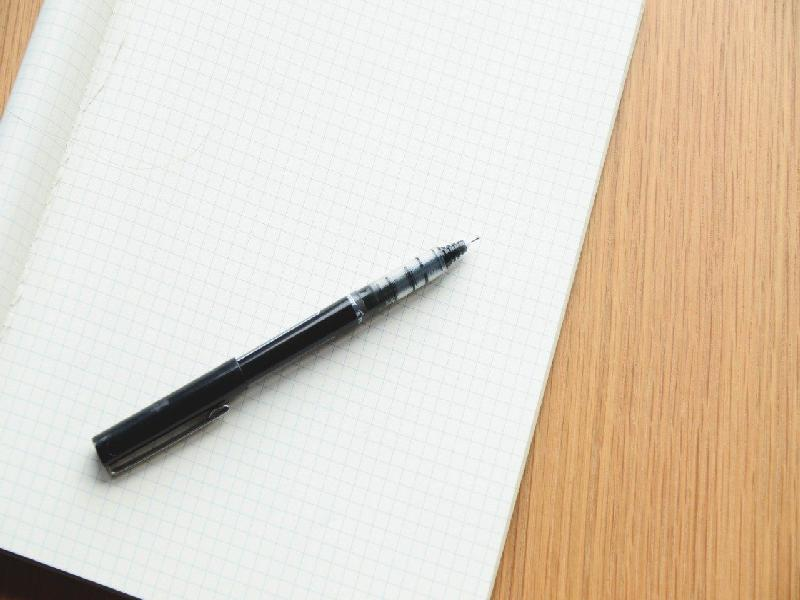pen: (89, 227, 479, 486)
